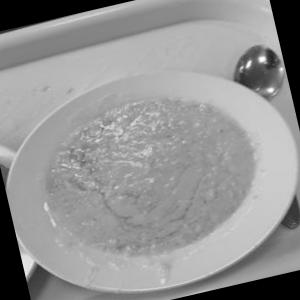porridge: (8, 60, 278, 291)
